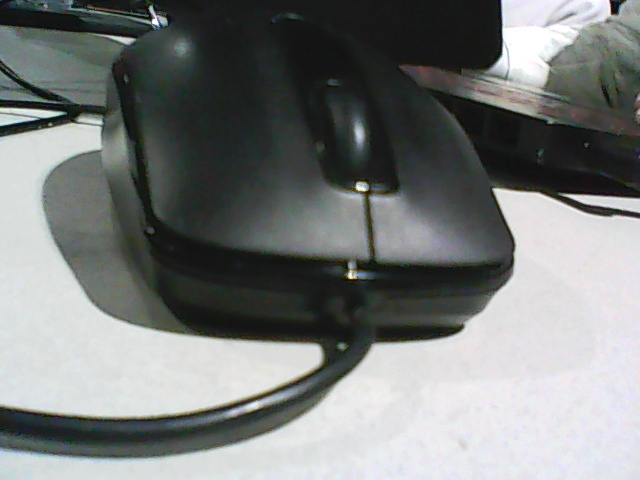mouse: (100, 9, 516, 337)
